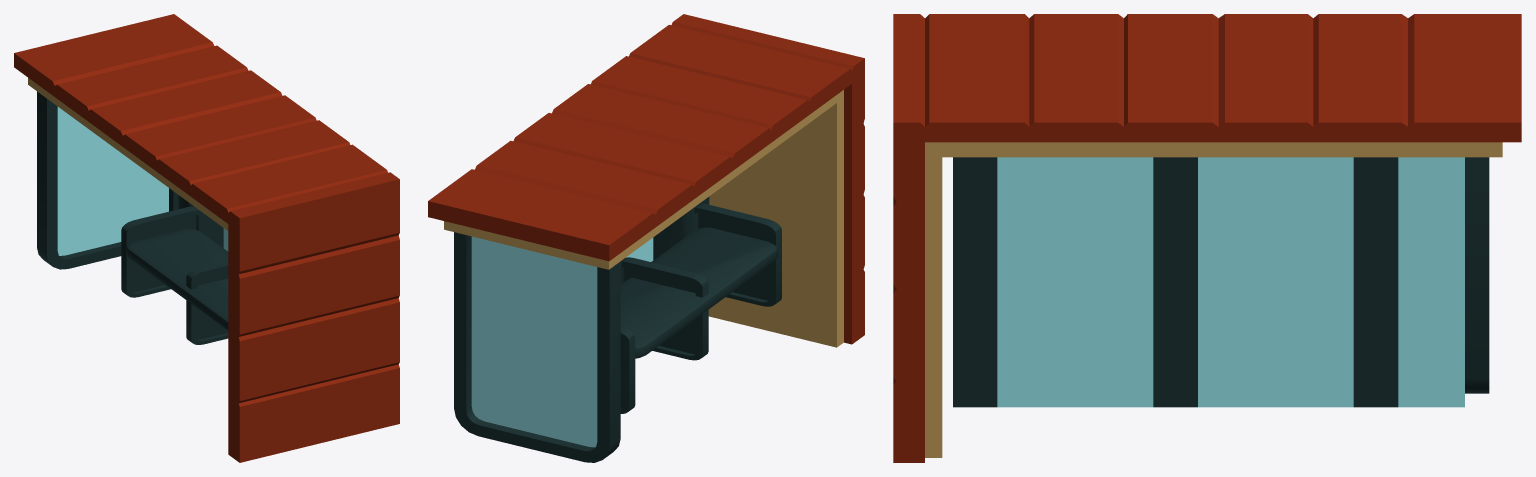
The model's file is BusStation.fbx.
The picture shows the model from 3 angles, left to right: view 1: azimuth 30°, elevation 25°; view 2: azimuth 150°, elevation 25°; view 3: azimuth 270°, elevation 25°; orthographic projection. The views are drawn at different scales.
Visible parts, largest first — view 1: Cube.013, Plane; view 2: Cube.013, Plane; view 3: Cube.013.
Part boxes in pixels (x1,y1,x2,y2): Cube.013: (14,14,399,462); Plane: (121,206,228,344); Cube.013: (428,14,864,462); Plane: (620,203,781,413); Cube.013: (893,14,1521,462).
Size of the model in its own units: 248 by 607 by 363.
